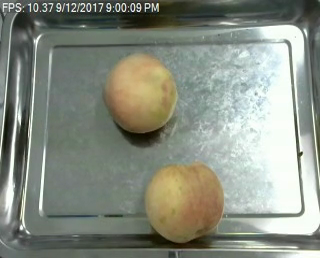Peach: (145, 161, 224, 243), (103, 51, 178, 134)
